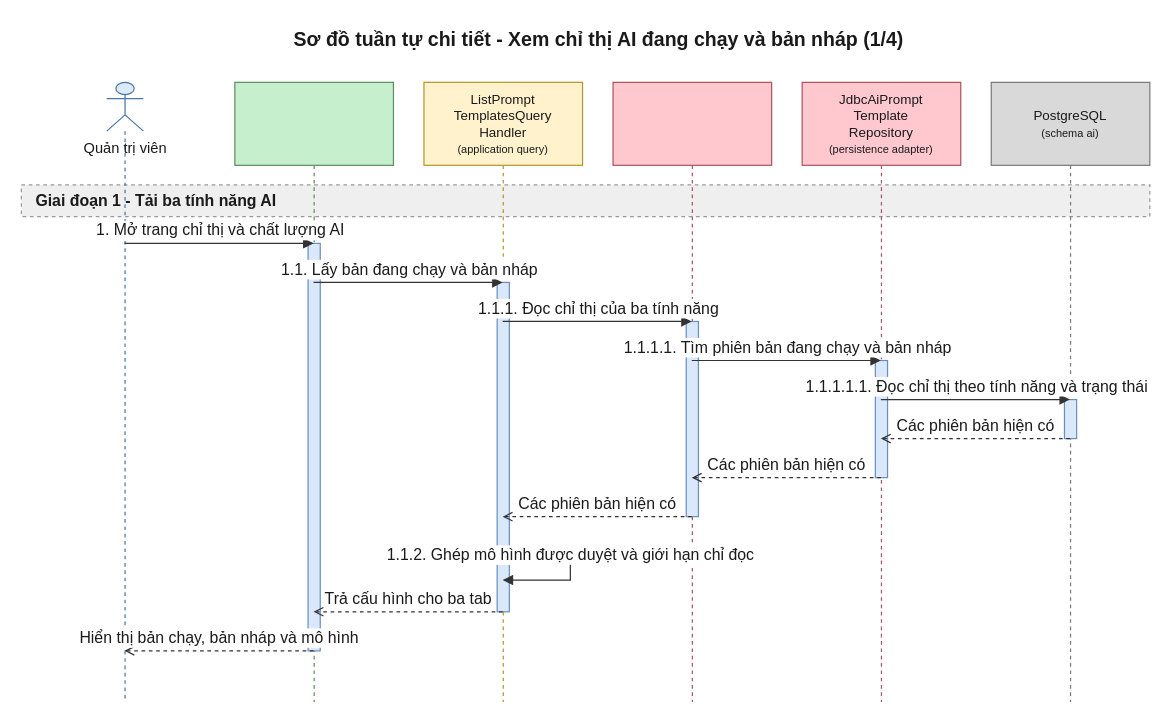
Some shapes in this 1171 by 723 pixel diagram are drawn without their labels. Each missing label, with the box of its shape:
AdminLanguage Config Controller (presentation): (234, 81, 393, 702)
AiPrompt Template Repository (output port): (612, 81, 772, 702)
